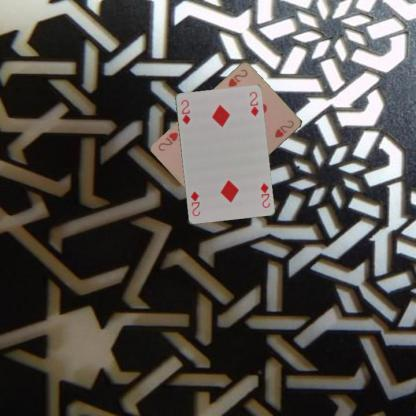2d: (258, 180, 271, 209), (178, 97, 191, 125)
2h: (225, 66, 249, 88)
